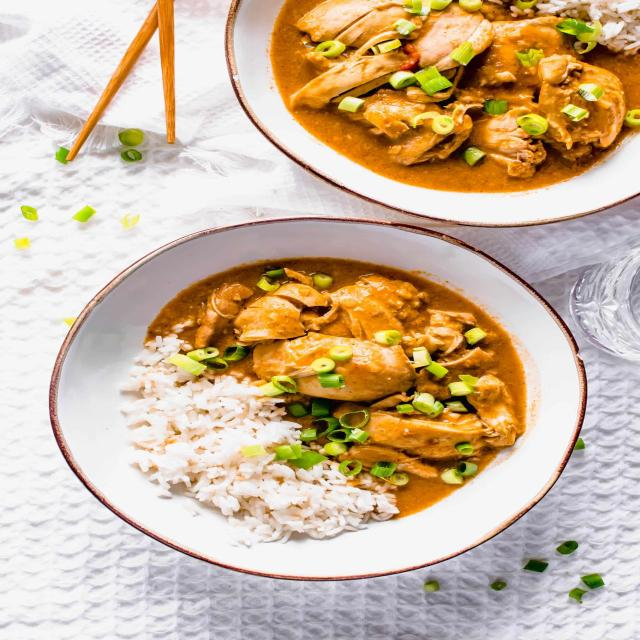chicken: (286, 0, 640, 195), (251, 281, 526, 456)
rice: (85, 354, 367, 532)
